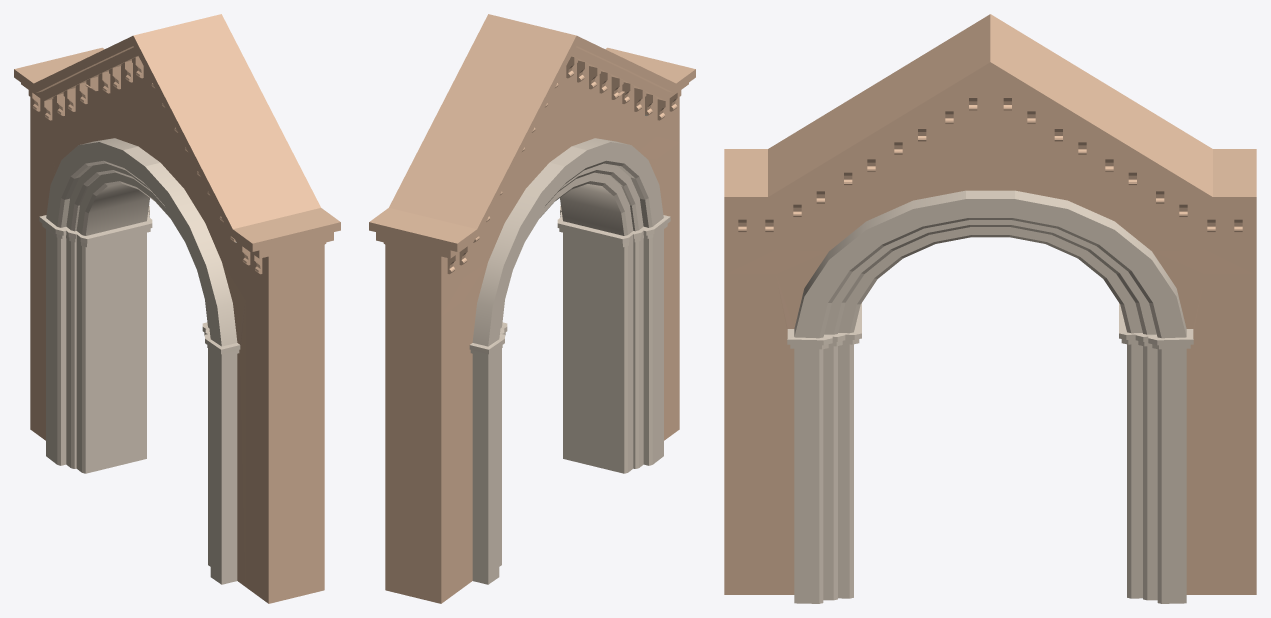
The model's file is BC_ArcWall_B.fbx.
3 renders of one model, left to right at view 1: azimuth 30°, elevation 25°; view 2: azimuth 150°, elevation 25°; view 3: azimuth 270°, elevation 25°, orthographic. The views are drawn at different scales.
Visible parts, largest first — view 1: BC_ArcWall_B; view 2: BC_ArcWall_B; view 3: BC_ArcWall_B.
Boxes of the visible parts, x1,y1,x2,y2 form: BC_ArcWall_B: (14,14,340,603); BC_ArcWall_B: (369,14,695,603); BC_ArcWall_B: (724,14,1256,603).
Size of the model in its own units: 515 by 2531 by 2249.
